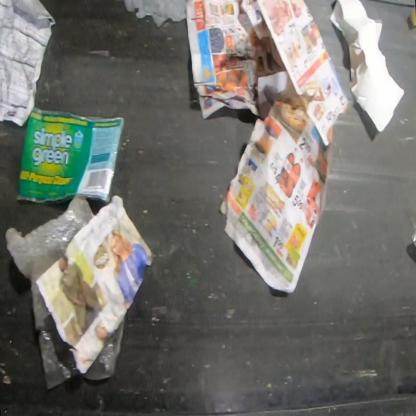soft_plastic: (5, 199, 128, 391), (15, 106, 126, 207), (411, 227, 415, 250)
